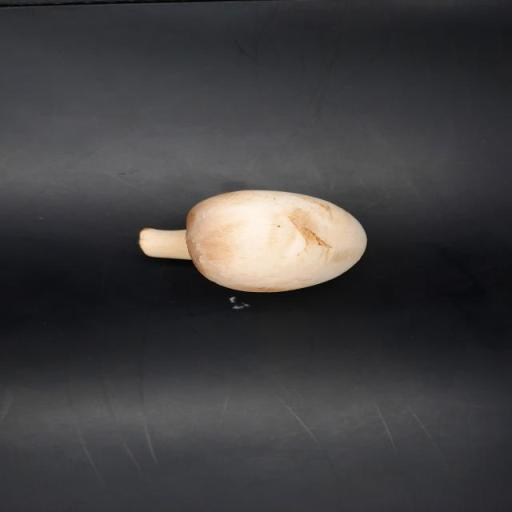mushroom: (139, 189, 369, 296)
